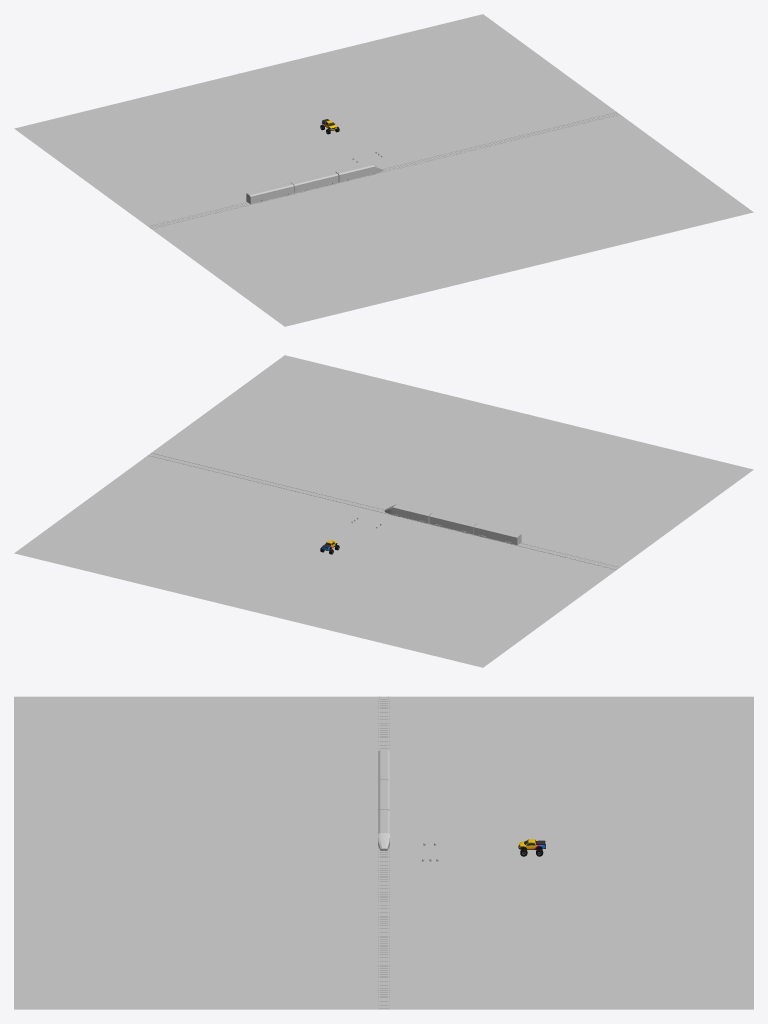
Rendered from changjing2_3.fbx.
3 views of the same model, one above another, from view 1: azimuth 30°, elevation 25°; view 2: azimuth 150°, elevation 25°; view 3: azimuth 270°, elevation 25° (orthographic). The views are drawn at different scales.
Parts seen in each view (by area): view 1: polySurface85, HuoChe2, huochedao2; view 2: polySurface85, HuoChe2, huochedao2; view 3: polySurface85, huochedao2, HuoChe2.
Boxes of the visible parts, bbox=[...] form: polySurface85: bbox=[14, 14, 753, 326]; HuoChe2: bbox=[246, 163, 383, 204]; huochedao2: bbox=[148, 111, 619, 228]; polySurface85: bbox=[14, 355, 753, 667]; HuoChe2: bbox=[384, 504, 521, 545]; huochedao2: bbox=[148, 452, 619, 569]; polySurface85: bbox=[14, 696, 753, 1009]; huochedao2: bbox=[378, 696, 389, 1009]; HuoChe2: bbox=[378, 750, 389, 850].
Size of the model in its own units: 34371 by 654 by 34371.
